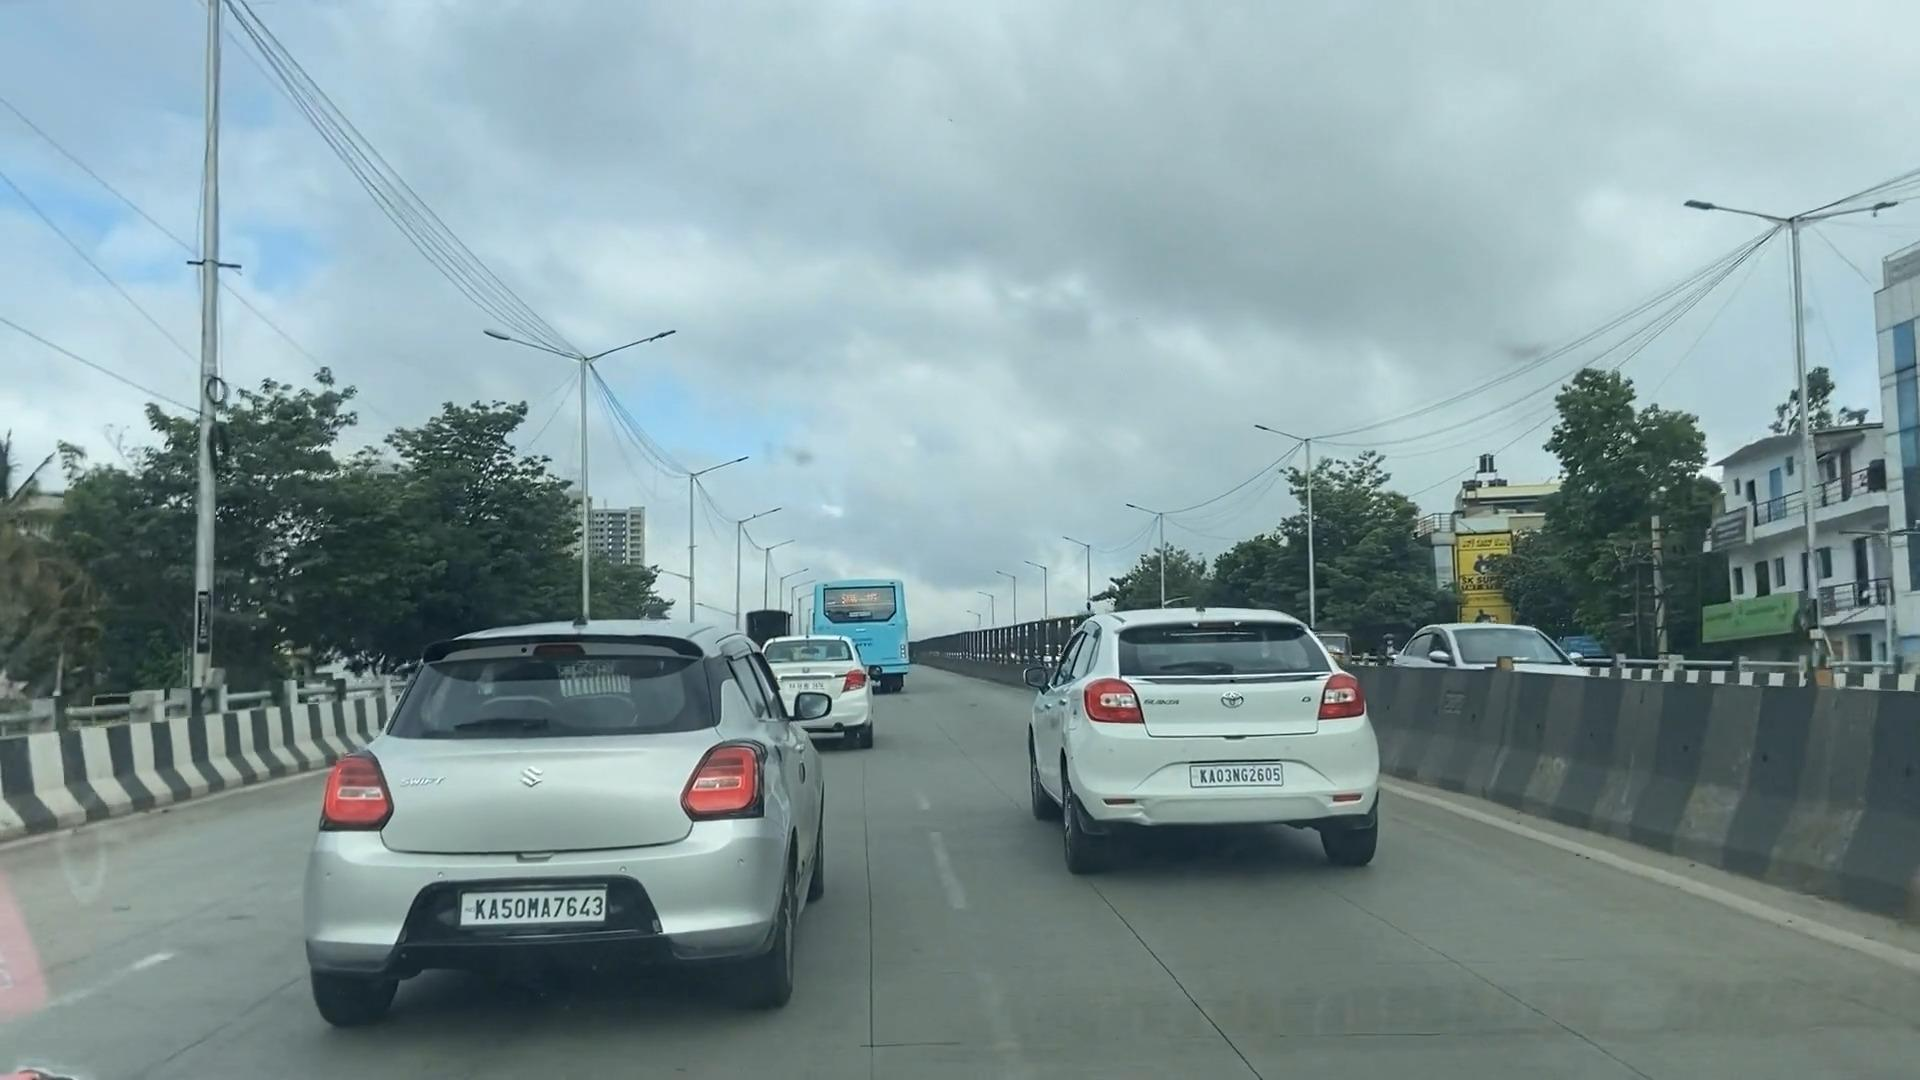HMV: (783, 521, 926, 712)
LMV: (211, 537, 815, 1055), (990, 609, 1393, 905), (717, 587, 874, 740)
